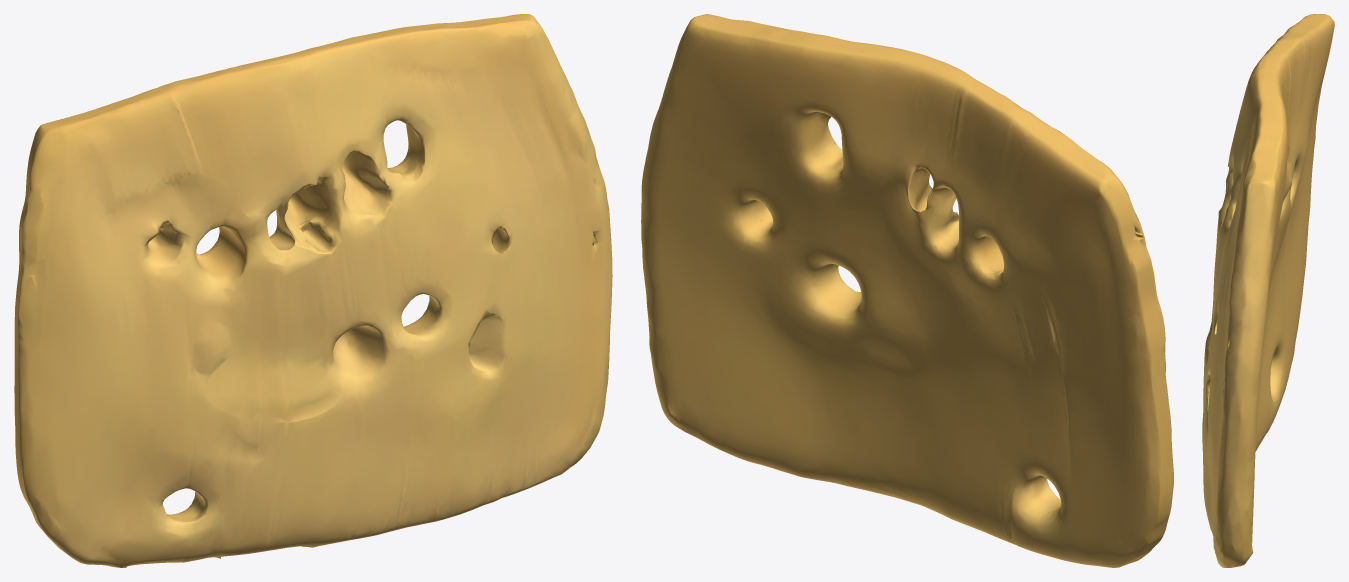
Rendered from QuesoModel.glb.
The picture shows the model from 3 angles, left to right: view 1: azimuth 30°, elevation 25°; view 2: azimuth 150°, elevation 25°; view 3: azimuth 270°, elevation 25°; orthographic projection. The views are drawn at different scales.
Parts seen in each view (by area): view 1: tripo_node_8bb1337b-8804-4f7b-8774-038cbfa7f86a; view 2: tripo_node_8bb1337b-8804-4f7b-8774-038cbfa7f86a; view 3: tripo_node_8bb1337b-8804-4f7b-8774-038cbfa7f86a.
Boxes of the visible parts, bbox=[...] form: tripo_node_8bb1337b-8804-4f7b-8774-038cbfa7f86a: bbox=[14, 14, 612, 567]; tripo_node_8bb1337b-8804-4f7b-8774-038cbfa7f86a: bbox=[641, 14, 1173, 567]; tripo_node_8bb1337b-8804-4f7b-8774-038cbfa7f86a: bbox=[1202, 14, 1334, 567].
Size of the model in its own units: 0.9802 by 0.7883 by 0.2319.
Materials: 1 (1 with a texture image).
